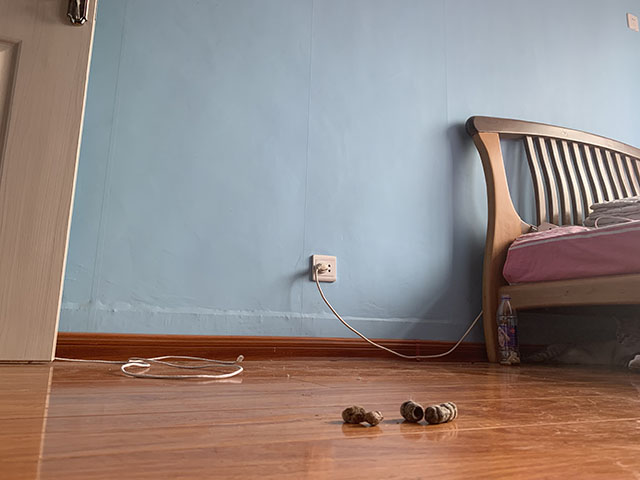bed: (464, 114, 640, 367)
feces: (397, 399, 458, 425), (340, 404, 383, 426)
wire: (312, 260, 483, 360), (53, 350, 246, 380)
